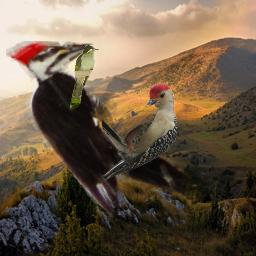Cuckoo: (70, 45, 99, 110)
Woodpecker: (6, 41, 209, 217), (102, 83, 177, 183)
